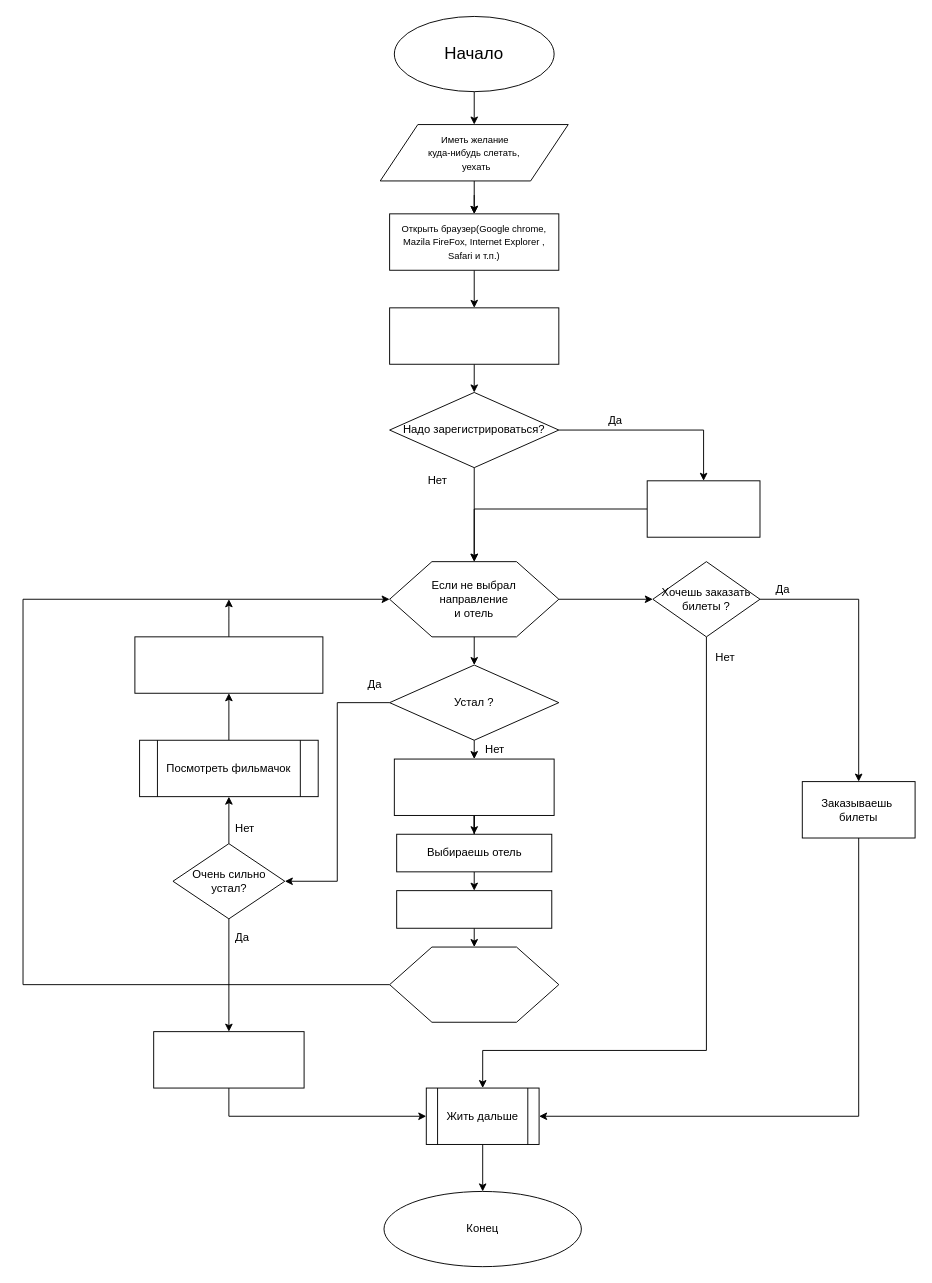
Some shapes in this 932 by 1283 pixel diagram are drawn without their labels. The shapes that lost their labels are listed below. From the top down, each one's centre as x and y in pixels, then its label:
point (474, 335): В URL адресс ввести https://www.booking.com и нажать Enter
point (703, 508): Регистрируешься
point (228, 664): Вернуться на страницу https://www.booking.com
point (473, 786): Выбираешь направление отдыха
point (474, 909): Бронируешь отель
point (228, 1059): Выйти из браузера
